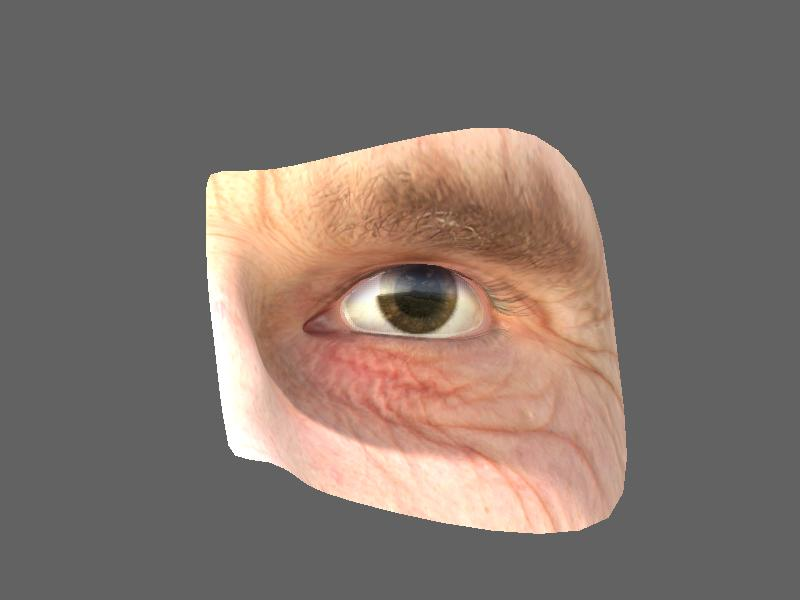iris: (374, 268, 458, 335)
